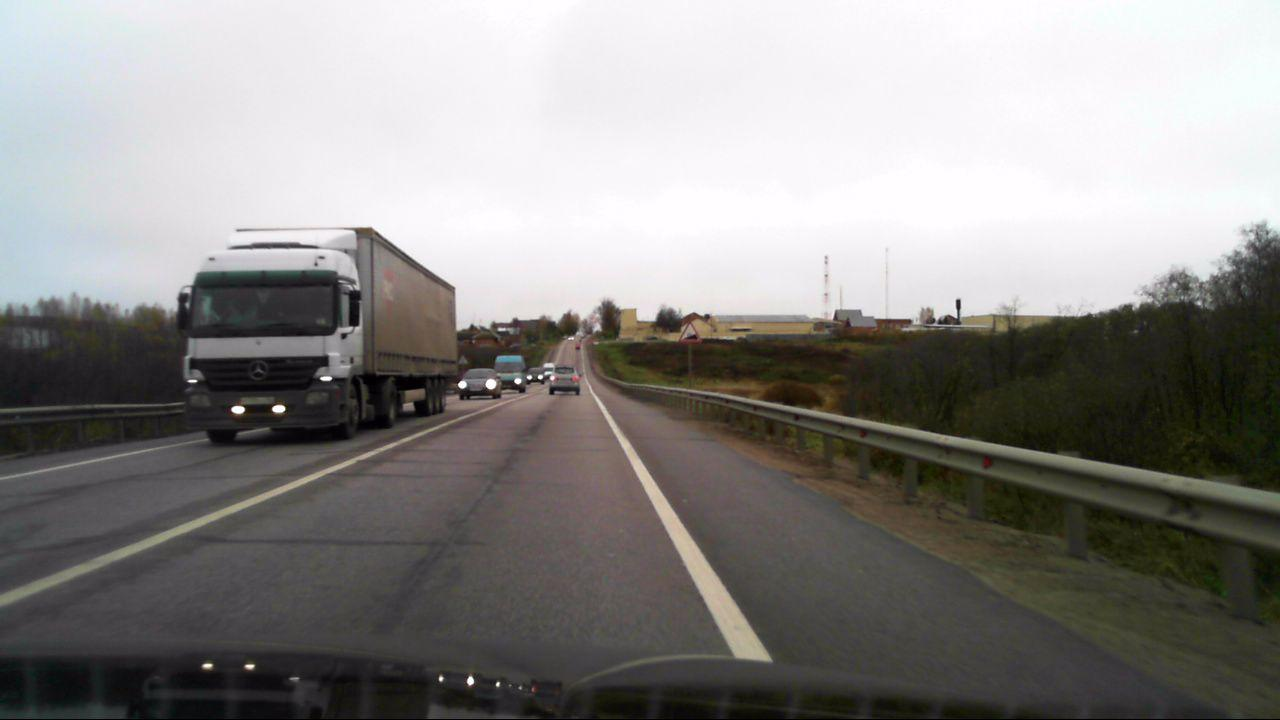1_14: (678, 320, 700, 343)
